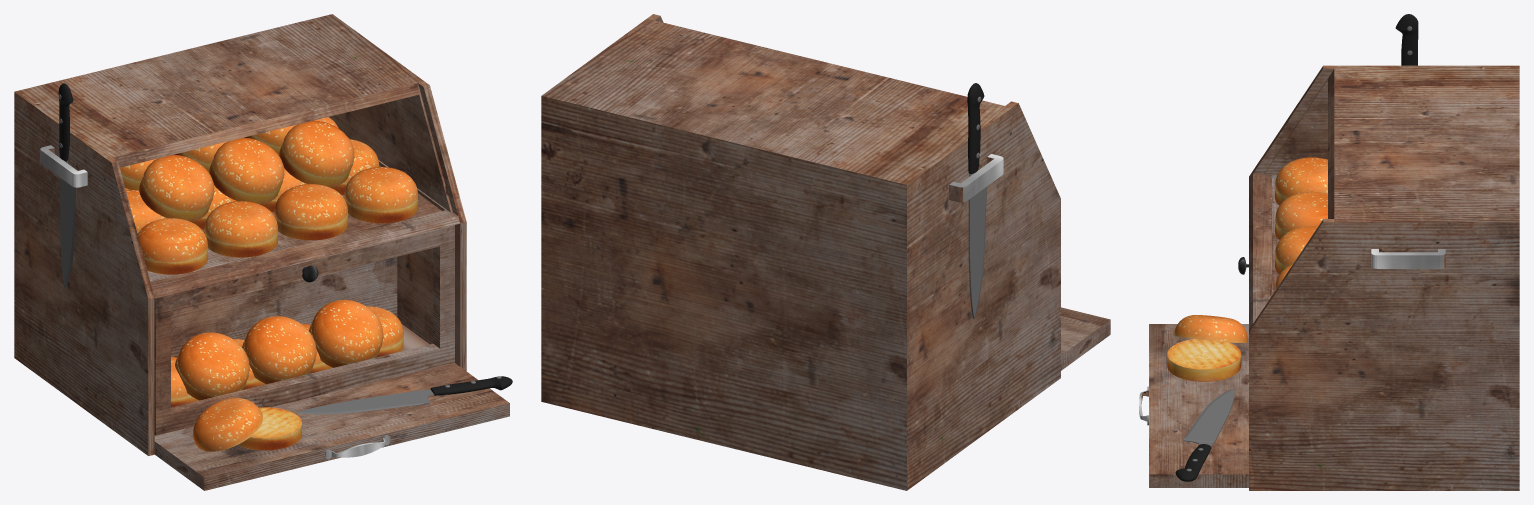
File: broodkast We are cooked.fbx
The picture shows the model from 3 angles, left to right: view 1: azimuth 30°, elevation 25°; view 2: azimuth 150°, elevation 25°; view 3: azimuth 270°, elevation 25°; orthographic projection. The views are drawn at different scales.
Parts seen in each view (by area): view 1: Cube, Cube.005, Cube.001, bovenkant broodje.007, bovenkant broodje.005, bovenkant broodje.006, bovenkant broodje.023, bovenkant broodje.021, bovenkant broodje.022, bovenkant broodje.008, bovenkant broodje.017, bovenkant broodje.020 (+18 smaller); view 2: Cube, Cube.005, Cube.006, Cube.002, Cylinder.004; view 3: Cube, Cube.005, onderkant broodje.008, bovenkant broodje.018, bovenkant broodje.017, bovenkant broodje.008, Cube.007, Cube.003, bovenkant broodje.020, Cylinder.004, Cylinder.001.
Part boxes in pixels (<box>): Cube: <box>14,14,466,455</box>; Cube.005: <box>154,363,509,490</box>; Cube.001: <box>154,225,454,434</box>; bovenkant broodje.007: <box>244,316,316,379</box>; bovenkant broodje.005: <box>177,332,249,395</box>; bovenkant broodje.006: <box>311,299,383,363</box>; bovenkant broodje.023: <box>283,120,354,177</box>; bovenkant broodje.021: <box>143,155,214,211</box>; bovenkant broodje.022: <box>213,137,284,194</box>; bovenkant broodje.008: <box>193,398,263,451</box>; bovenkant broodje.017: <box>204,201,277,245</box>; bovenkant broodje.020: <box>274,184,347,228</box>; Cube: <box>541,14,1060,490</box>; Cube.005: <box>1061,307,1110,370</box>; Cube.006: <box>968,173,986,319</box>; Cube.002: <box>949,154,1003,202</box>; Cylinder.004: <box>967,83,984,173</box>; Cube: <box>1249,65,1519,490</box>; Cube.005: <box>1139,324,1248,487</box>; onderkant broodje.008: <box>1167,339,1241,381</box>; bovenkant broodje.018: <box>1275,157,1327,197</box>; bovenkant broodje.017: <box>1275,191,1327,232</box>; bovenkant broodje.008: <box>1174,315,1247,342</box>; Cube.007: <box>1183,389,1234,446</box>; Cube.003: <box>1371,249,1445,268</box>; bovenkant broodje.020: <box>1275,226,1317,266</box>; Cylinder.004: <box>1395,14,1418,65</box>; Cylinder.001: <box>1175,444,1211,481</box>.
Bounding box in the file's own units: 54.24 × 47.36 × 51.31.
